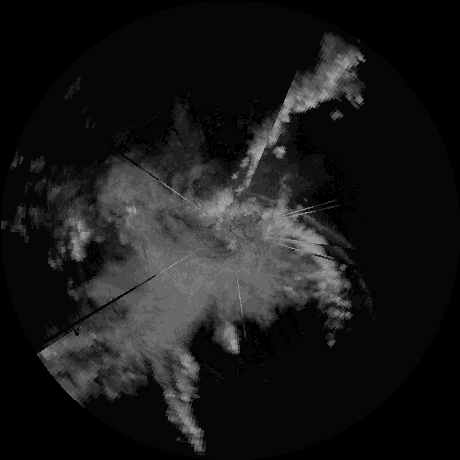frontgust: (334, 248, 372, 305), (302, 215, 351, 247), (247, 191, 276, 206)
